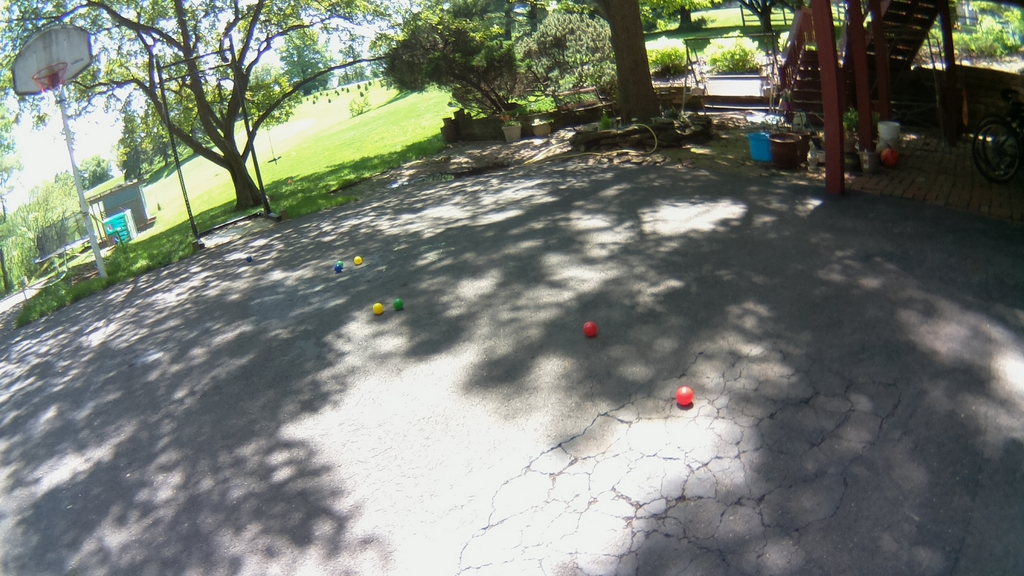ball: (393, 299, 403, 312)
